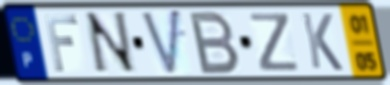B: (188, 9, 242, 76)
F: (42, 13, 81, 74)
K: (299, 11, 346, 73)
N: (82, 10, 140, 77)
V: (138, 7, 183, 79)
Z: (247, 12, 302, 74)
